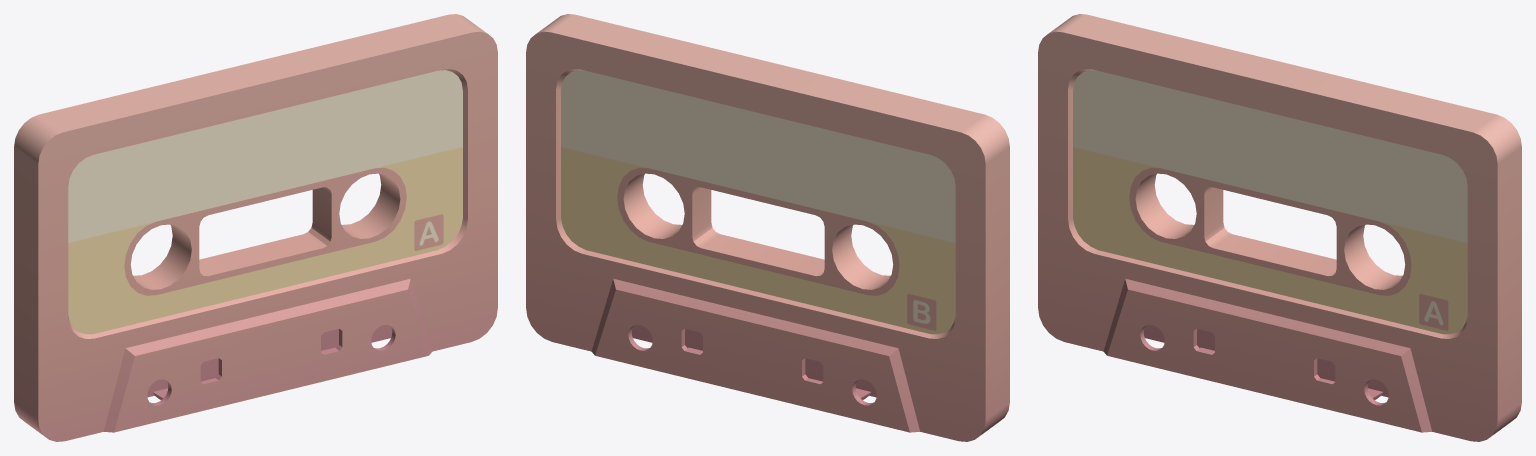
Rendered from DUMMYCASSETTE.fbx.
3 renders of one model, left to right at view 1: azimuth 30°, elevation 25°; view 2: azimuth 150°, elevation 25°; view 3: azimuth 330°, elevation 25°, orthographic.
Parts seen in each view (by area): view 1: Animatoin00:Cassette; view 2: Animatoin00:Cassette; view 3: Animatoin00:Cassette.
Part boxes in pixels (<box>): Animatoin00:Cassette: <box>14,14,497,441</box>; Animatoin00:Cassette: <box>526,14,1009,441</box>; Animatoin00:Cassette: <box>1038,14,1521,441</box>.
Bounding box in the file's own units: 10.02 × 6.44 × 1.17.
